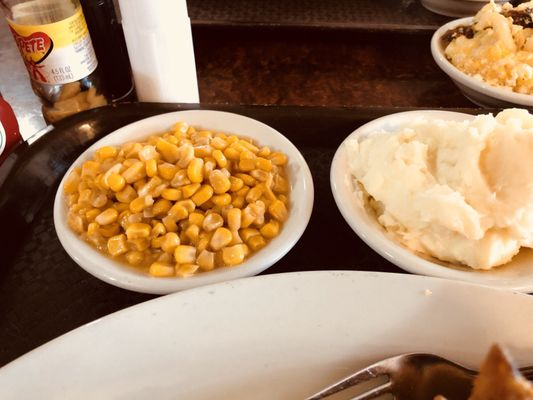pizza: (2, 0, 100, 106)
salad: (299, 353, 483, 400)
sushi: (54, 107, 315, 295), (330, 107, 533, 286), (430, 0, 533, 114)
